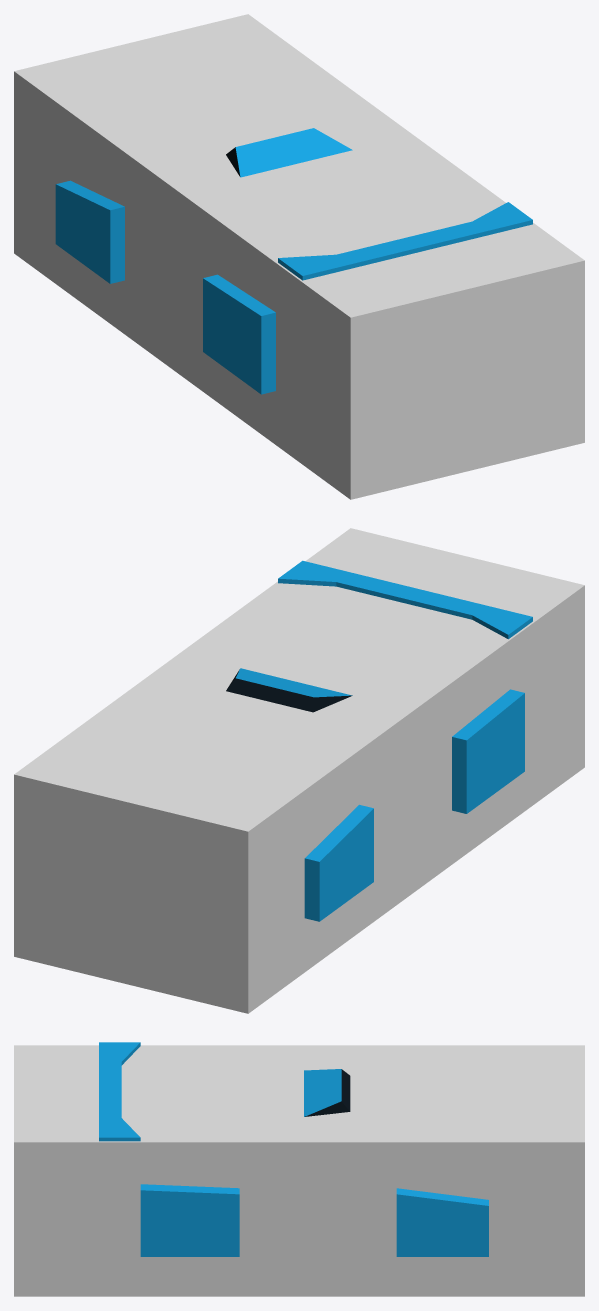
3 renders of one model, top to bottom at view 1: azimuth 30°, elevation 25°; view 2: azimuth 150°, elevation 25°; view 3: azimuth 270°, elevation 25°, orthographic. The views are drawn at different scales.
Parts seen in each view (by area): view 1: car_0002_box, car_0002; view 2: car_0002_box, car_0002; view 3: car_0002_box, car_0002.
Part boxes in pixels (bbox=[...]): car_0002_box: bbox=[14, 14, 584, 499]; car_0002: bbox=[55, 128, 532, 394]; car_0002_box: bbox=[14, 528, 584, 1013]; car_0002: bbox=[226, 560, 532, 921]; car_0002_box: bbox=[14, 1045, 584, 1296]; car_0002: bbox=[99, 1042, 488, 1256].
Bounding box in the file's own units: 3.03 × 2.11 × 6.7.
